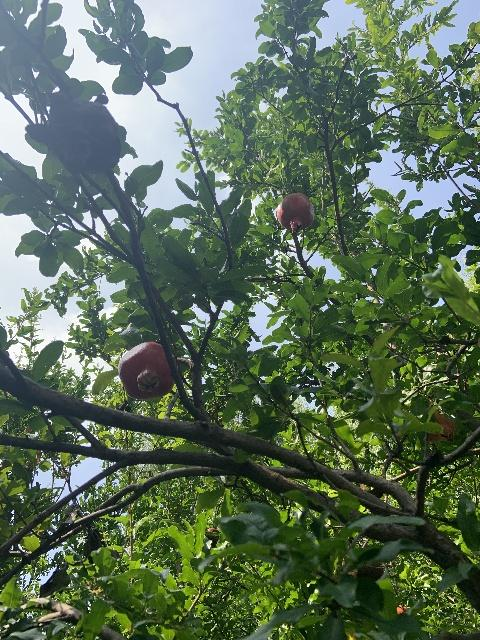ripe: (118, 341, 175, 400), (276, 192, 315, 232), (427, 409, 456, 443)
